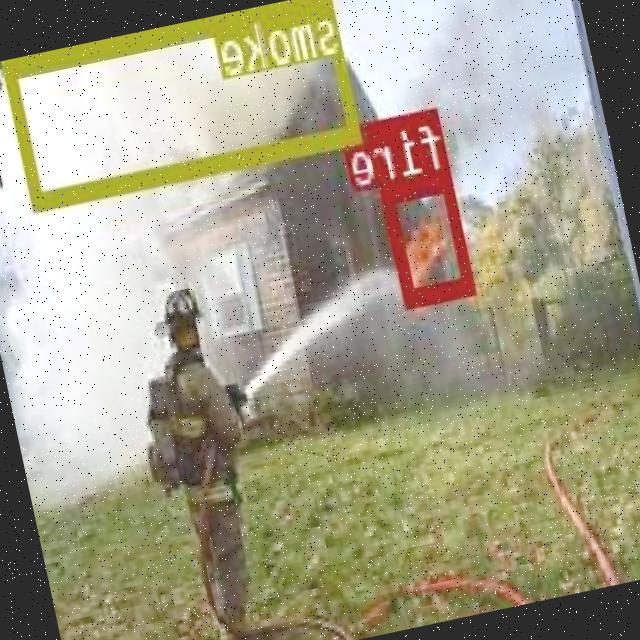fire: (382, 168, 479, 302)
smoke: (4, 0, 364, 205)
